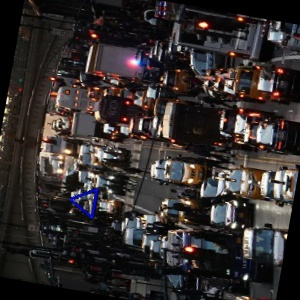triangle: (66, 186, 101, 220)
